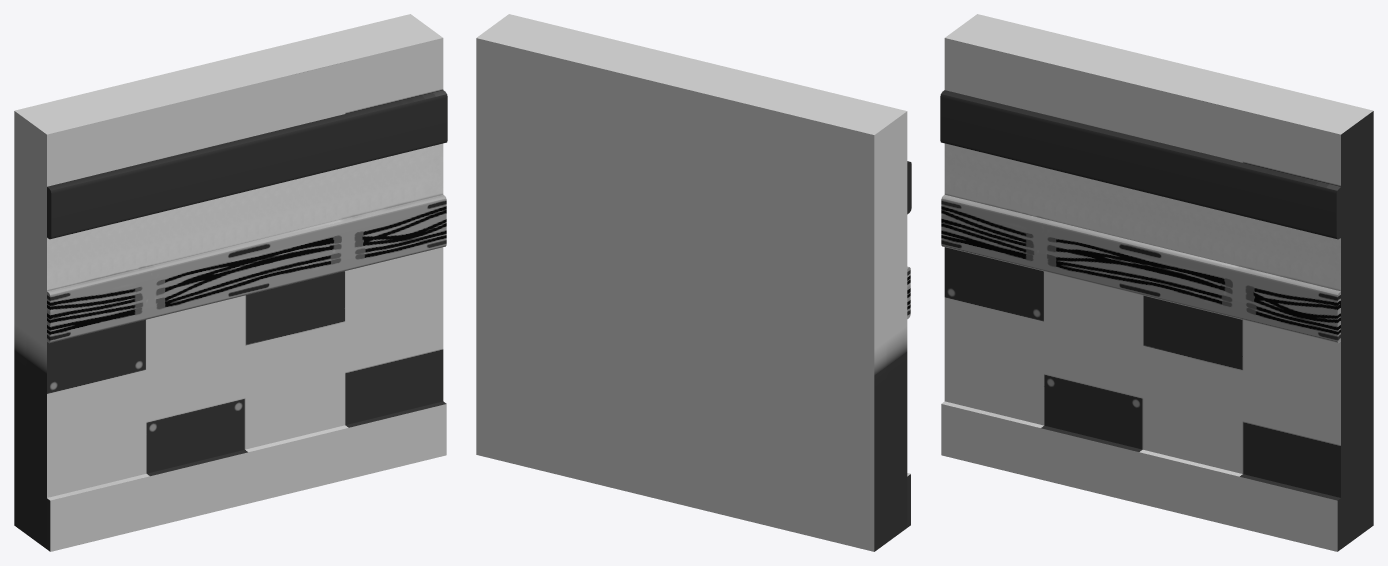
The model's file is Wall_Main.fbx.
3 views of the same model, side by side, from view 1: azimuth 30°, elevation 25°; view 2: azimuth 150°, elevation 25°; view 3: azimuth 330°, elevation 25° (orthographic).
Parts seen in each view (by area): view 1: Wall_Main; view 2: Wall_Main; view 3: Wall_Main.
Boxes of the visible parts, box(x1,y1,x2,y2) form: Wall_Main: box(14, 14, 447, 551); Wall_Main: box(476, 14, 911, 551); Wall_Main: box(940, 14, 1373, 551).
Size of the model in its own units: 700 by 700 by 114.
